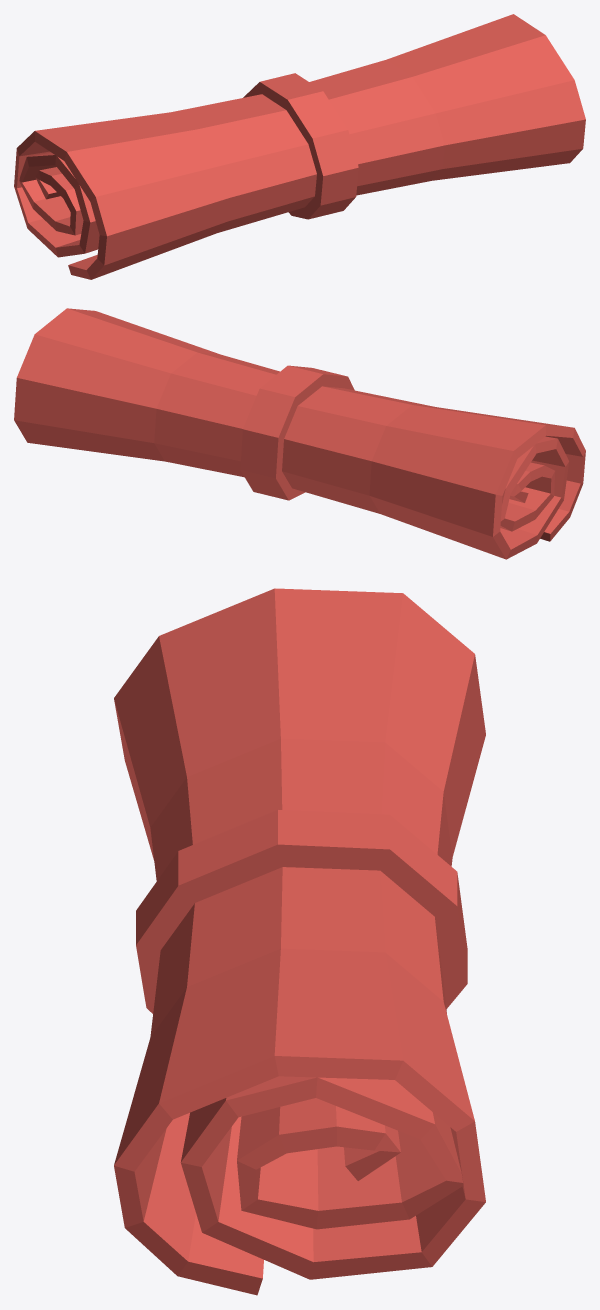
File: Scroll.006.fbx
3 views of the same model, one above another, from view 1: azimuth 30°, elevation 25°; view 2: azimuth 150°, elevation 25°; view 3: azimuth 270°, elevation 25° (orthographic). The views are drawn at different scales.
Visible parts, largest first — view 1: Scroll.006; view 2: Scroll.006; view 3: Scroll.006.
Boxes of the visible parts, x1,y1,x2,y2 form: Scroll.006: (14,14,585,279); Scroll.006: (14,308,585,559); Scroll.006: (114,588,485,1295).
Bounding box in the file's own units: 48.48 × 11.48 × 16.16.
